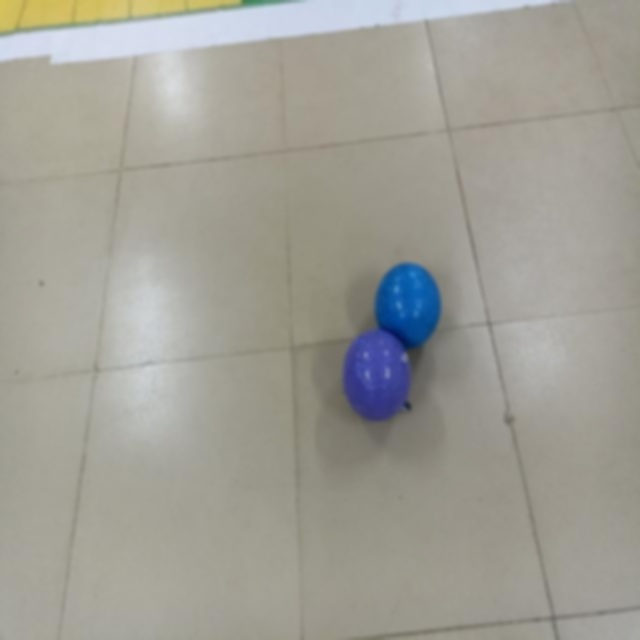blue_ball: (373, 253, 443, 339)
purple_ball: (347, 328, 420, 426)
